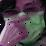with_mask: (2, 1, 46, 46)
